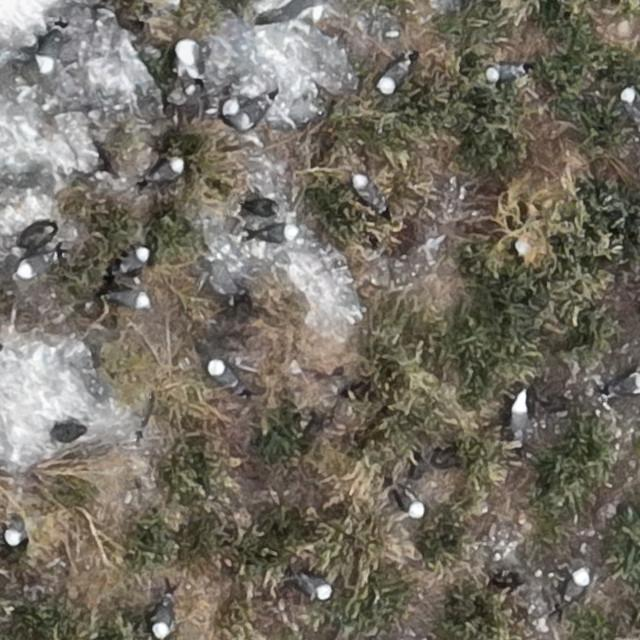umineko: (224, 92, 278, 131), (33, 32, 64, 77), (380, 60, 410, 90), (254, 223, 298, 242), (17, 254, 53, 276), (510, 396, 528, 439), (300, 575, 332, 599), (153, 599, 174, 635), (211, 363, 240, 389), (566, 570, 589, 602), (517, 221, 538, 256), (152, 158, 182, 181), (110, 291, 148, 309), (120, 248, 148, 272), (610, 373, 640, 395), (5, 521, 30, 545), (400, 493, 424, 517), (172, 41, 188, 75), (354, 175, 374, 202), (490, 64, 522, 80), (621, 88, 638, 117)
